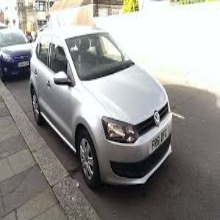no damage: (29, 26, 173, 193), (1, 25, 33, 80)
